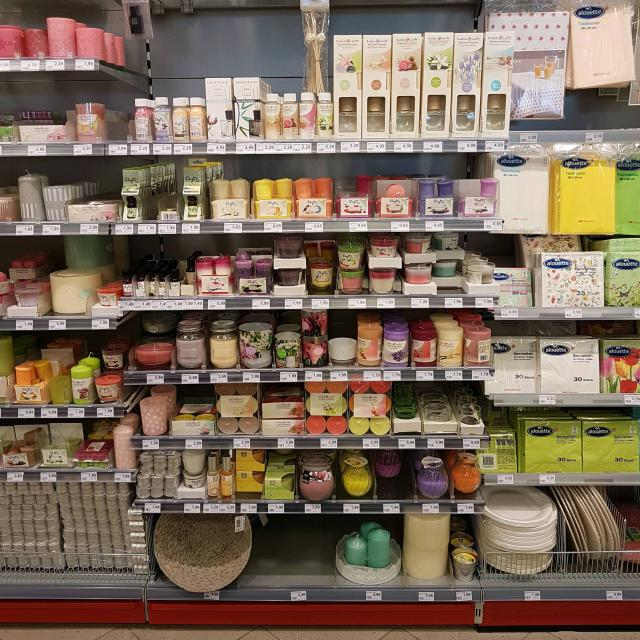empty: (250, 512, 330, 587)
